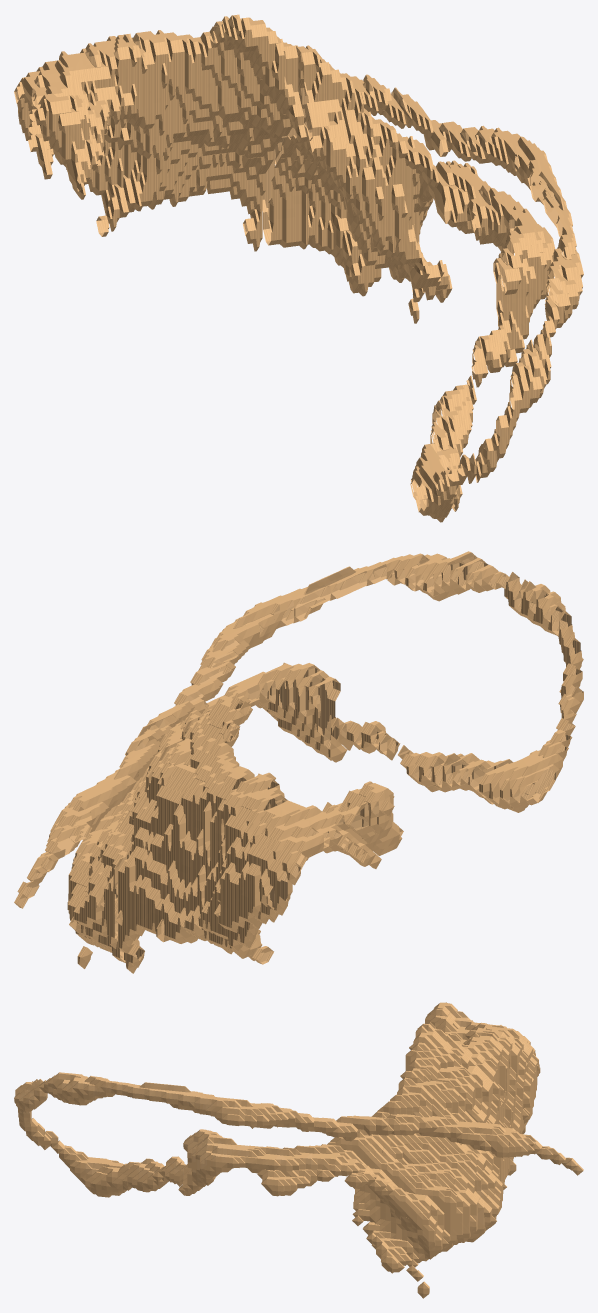
Rendered from SVV_URYDR.gltf.
3 renders of one model, top to bottom at view 1: azimuth 30°, elevation 25°; view 2: azimuth 150°, elevation 25°; view 3: azimuth 270°, elevation 25°, orthographic. The views are drawn at different scales.
Visible parts, largest first — view 1: URYDR; view 2: URYDR; view 3: URYDR.
Part boxes in pixels (x1,y1,x2,y2): URYDR: [14, 14, 583, 522]; URYDR: [14, 551, 583, 973]; URYDR: [14, 1002, 583, 1298].
Size of the model in its own units: 30018 by 27035 by 63609.
